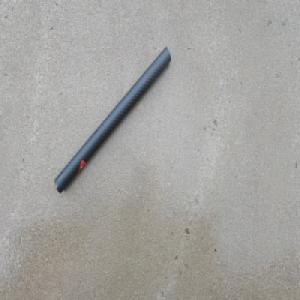LuggagePart: (51, 44, 173, 198)
